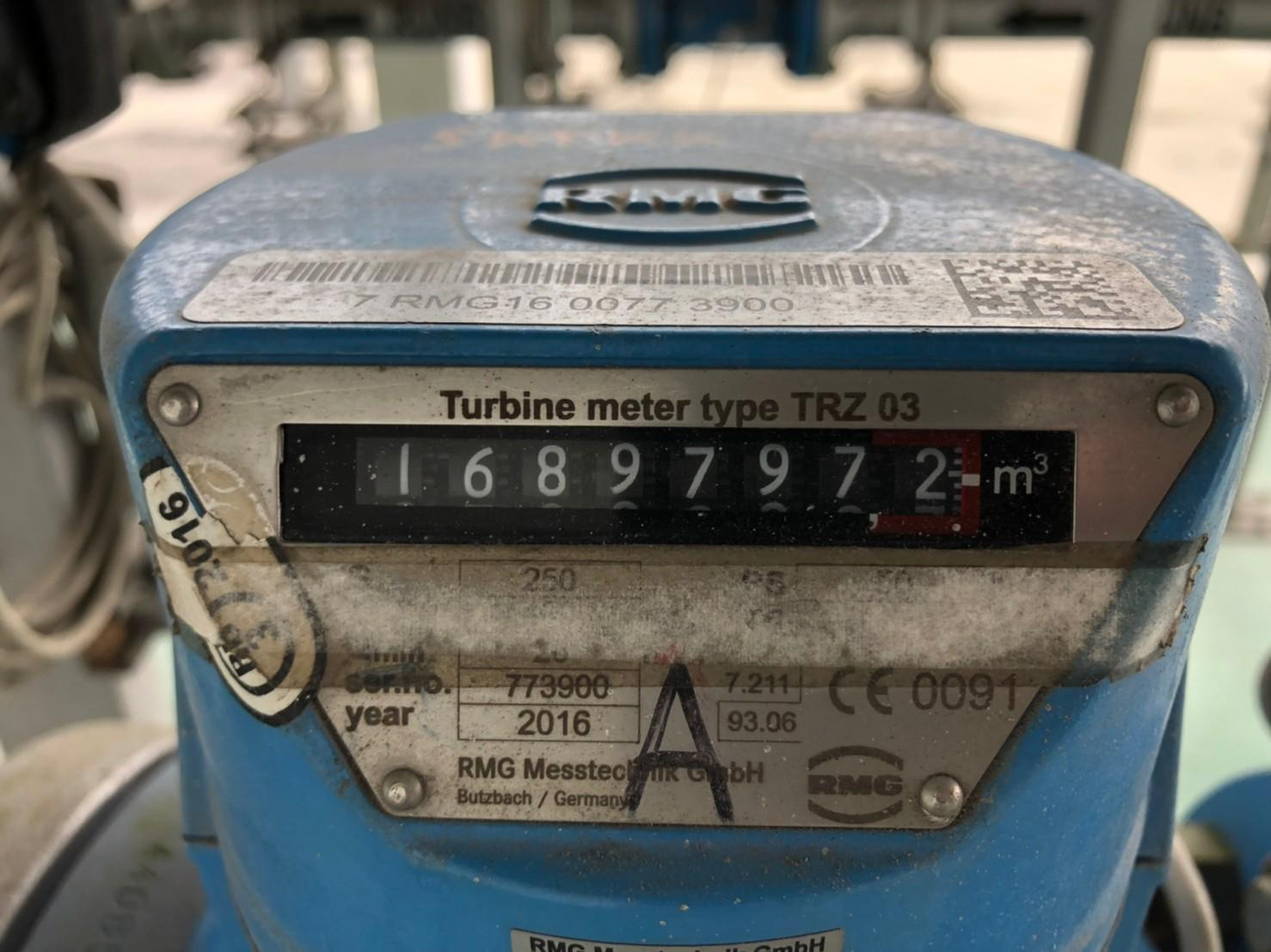analog_dial: (279, 424, 1074, 542)
